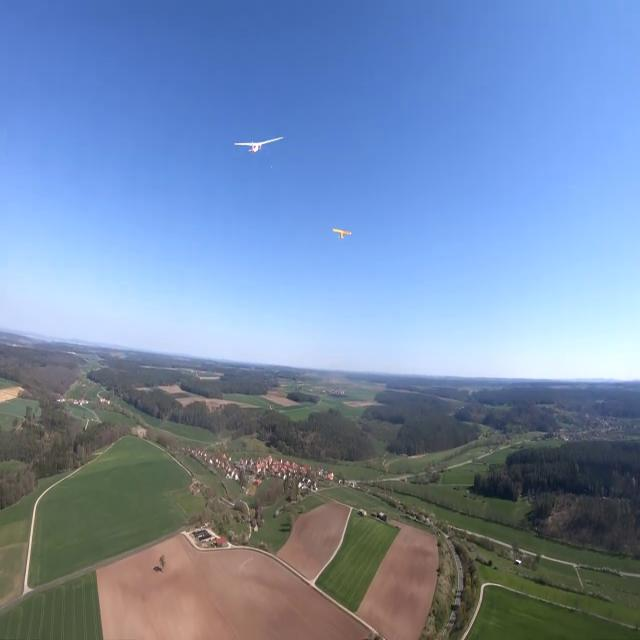iha: (234, 134, 284, 157), (334, 227, 353, 240)
